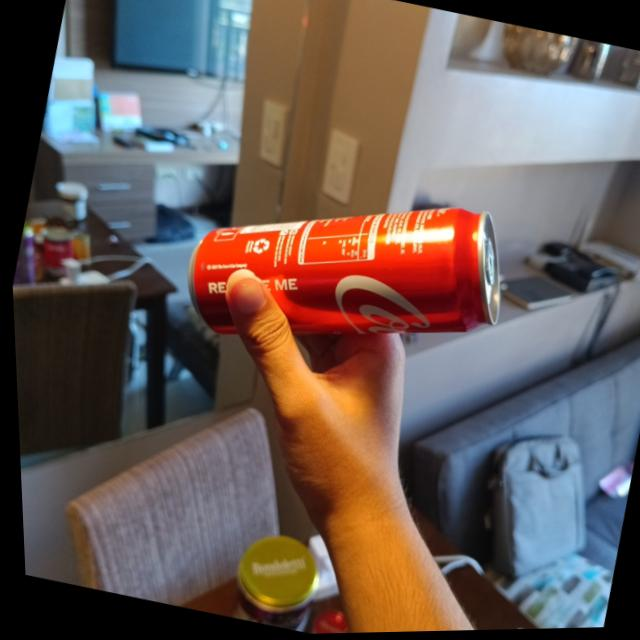coke: (170, 154, 519, 399)
